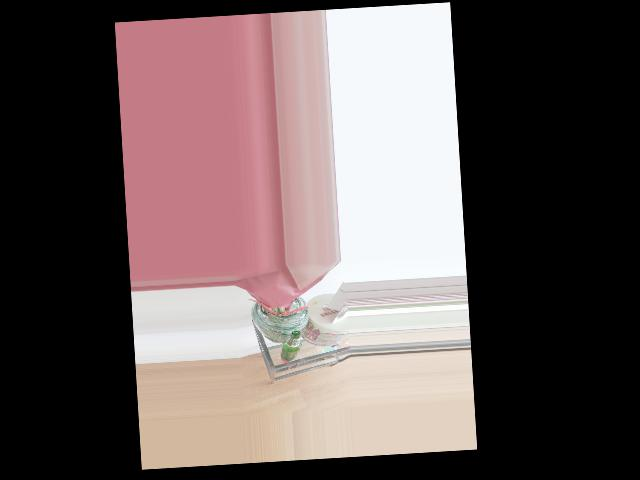beer: (278, 330, 302, 361)
